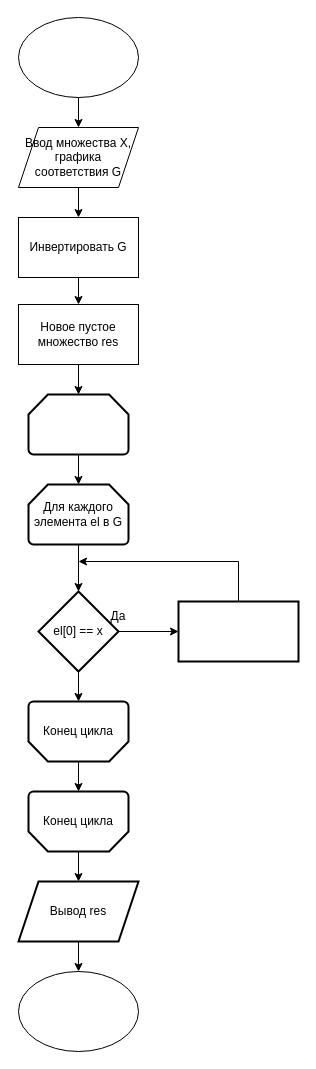
Image size: 316x1069. Some labels were removed from this diagram. Each missing label, with the centre of its shape:
Для каждого элемента x в X: (x=78, y=424)
Добавить el[1] в res: (x=238, y=631)
Конец: (x=78, y=1011)
Начало: (x=78, y=57)
